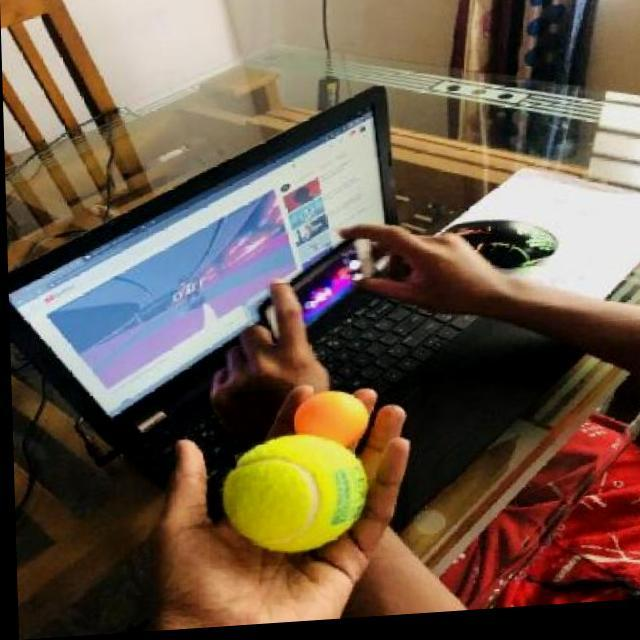-: (202, 387, 406, 572)
